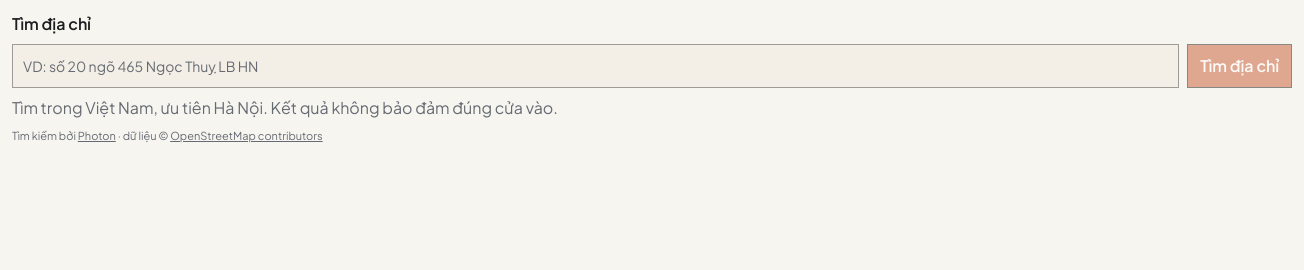
Test case: labels street results approximate and passes their own address on selection
This screenshot has width=1304, height=270.
Type "Ngọc Thụy" into the field labelled "Tìm địa chỉ". click: x=596, y=66
box: [12,44,1179,88]
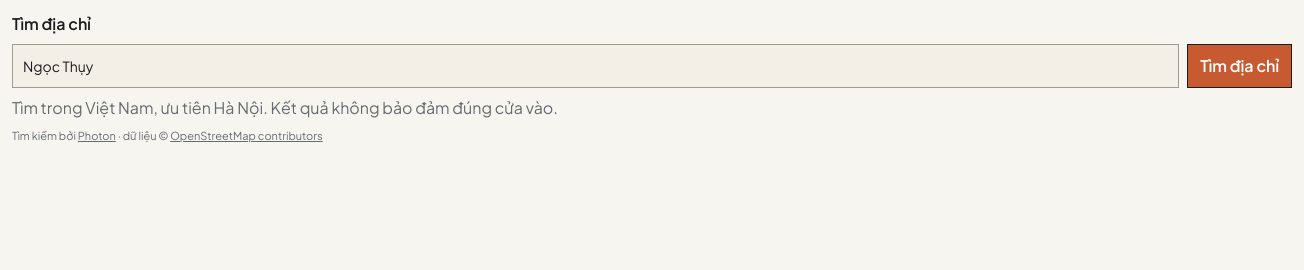
Click the button "Tìm địa chỉ". click: x=1240, y=66
box: [1187,44,1292,88]
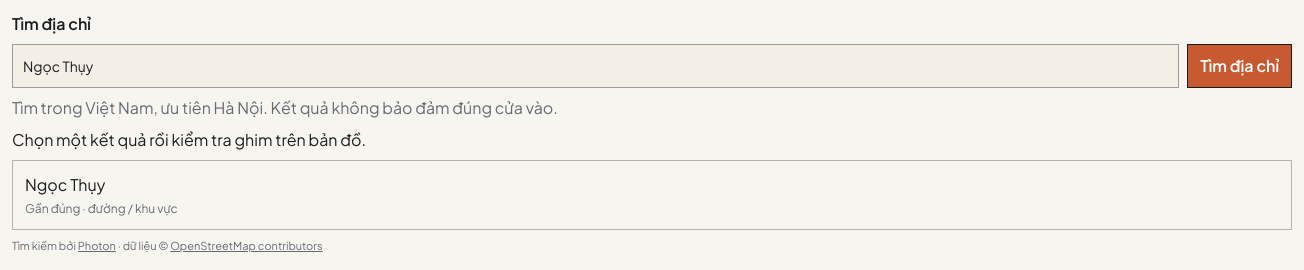
Click the button "Ngọc Thụy Gần đúng · đường / khu vực". click: x=65, y=184
box: [13,161,1291,229]
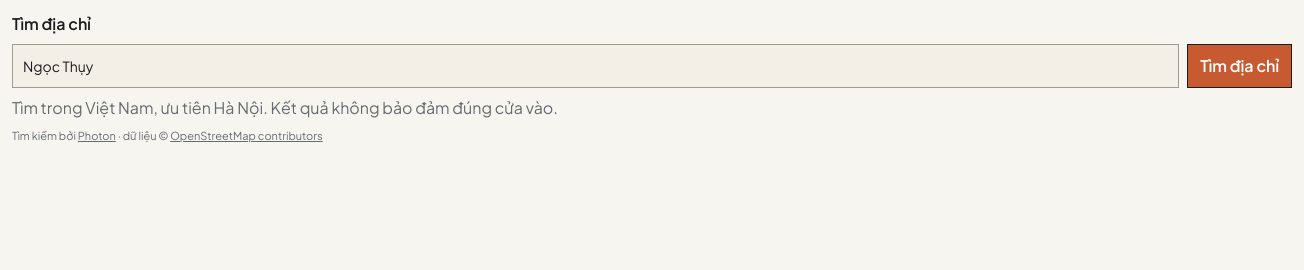
Check: the button "Gần đúng" is gone
